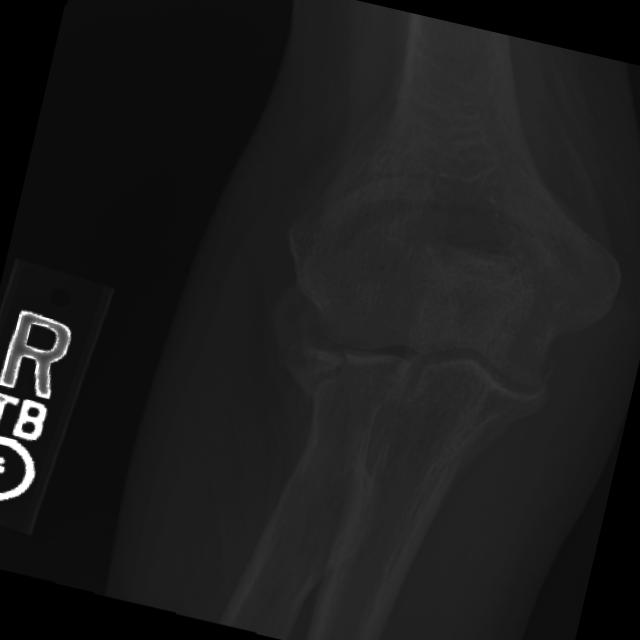elbow positive: (248, 333, 421, 458)
